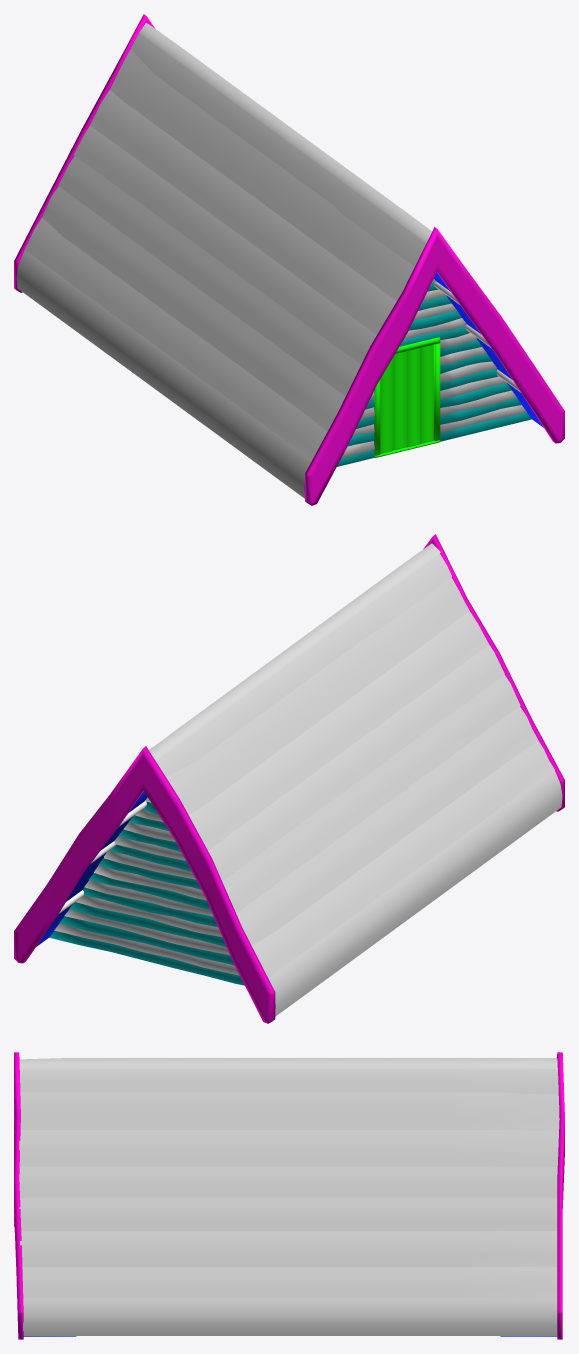
The model's file is House_low.fbx.
The picture shows the model from 3 angles, top to bottom: view 1: azimuth 30°, elevation 25°; view 2: azimuth 150°, elevation 25°; view 3: azimuth 270°, elevation 25°; orthographic projection. The views are drawn at different scales.
Parts seen in each view (by area): view 1: Straw_low, House_low, Plank1_low, Plank2_low; view 2: Straw_low, House_low, Plank1_low, Plank2_low; view 3: Straw_low, House_low.
Boxes of the visible parts, x1,y1,x2,y2 form: Straw_low: [16, 22, 432, 498]; House_low: [14, 14, 564, 505]; Plank1_low: [337, 282, 531, 466]; Plank2_low: [341, 279, 526, 457]; Straw_low: [149, 543, 562, 1016]; House_low: [14, 534, 564, 1023]; Plank1_low: [49, 801, 244, 985]; Plank2_low: [54, 797, 239, 975]; Straw_low: [19, 1058, 559, 1335]; House_low: [14, 1052, 564, 1339].
Size of the model in its own units: 5.22 by 4.72 by 10.24.
